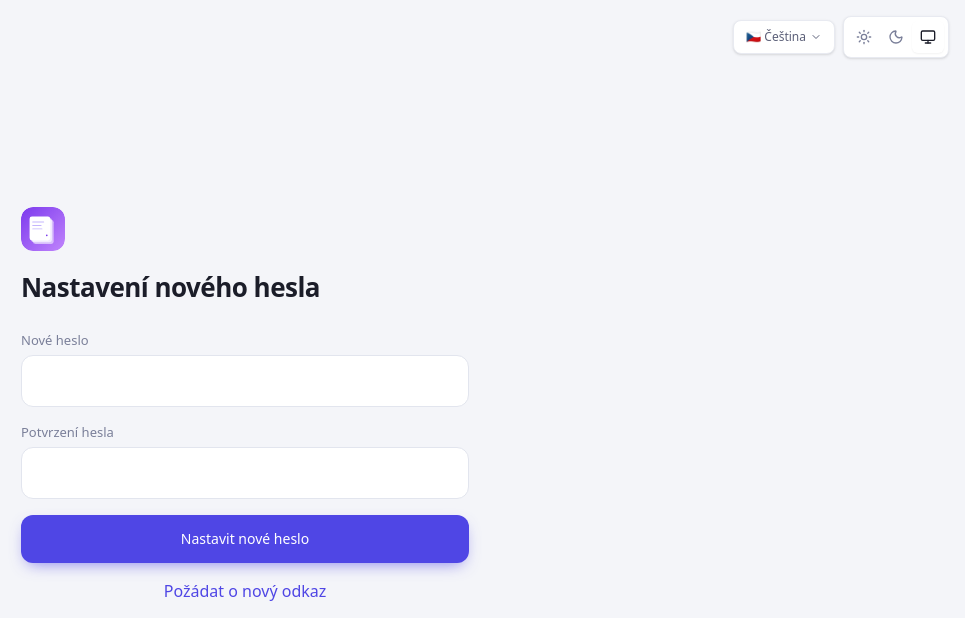
Test: ResetPassword Component › submits successfully with valid token and matching passwords
Type "newpassword123" into the password field labelled "Nové heslo".
click(245, 381); type("newpassword123")  # box [21,355,469,407]
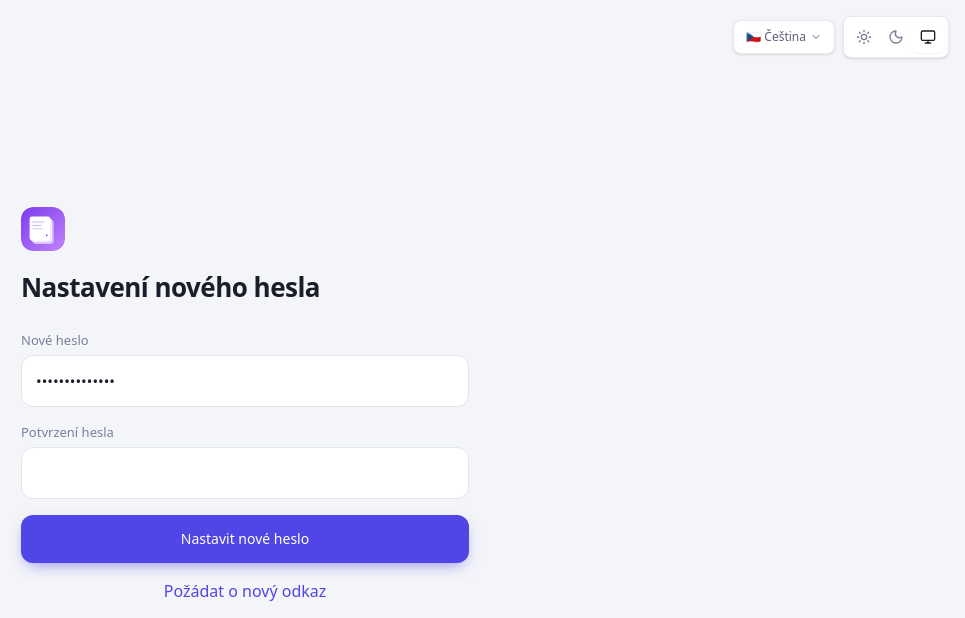
Type "newpassword123" into the password field labelled "Potvrzení hesla".
click(245, 473); type("newpassword123")  # box [21,447,469,499]
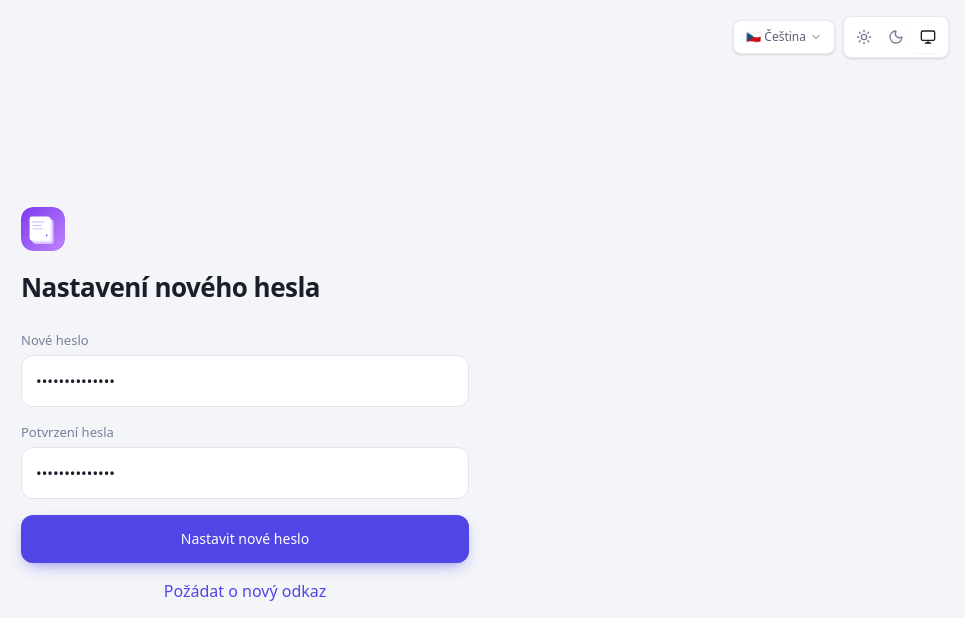
Click the button "Nastavit nové heslo".
click(245, 539)  # box [21,515,469,563]
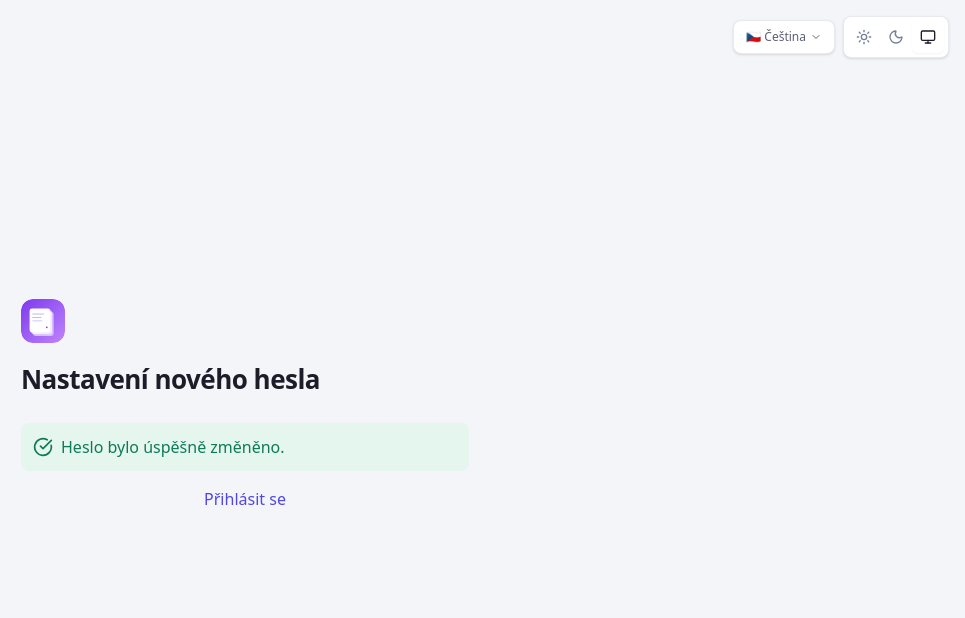
Result: the text "Heslo bylo úspěšně změněno." is shown at [61,435,285,459]
